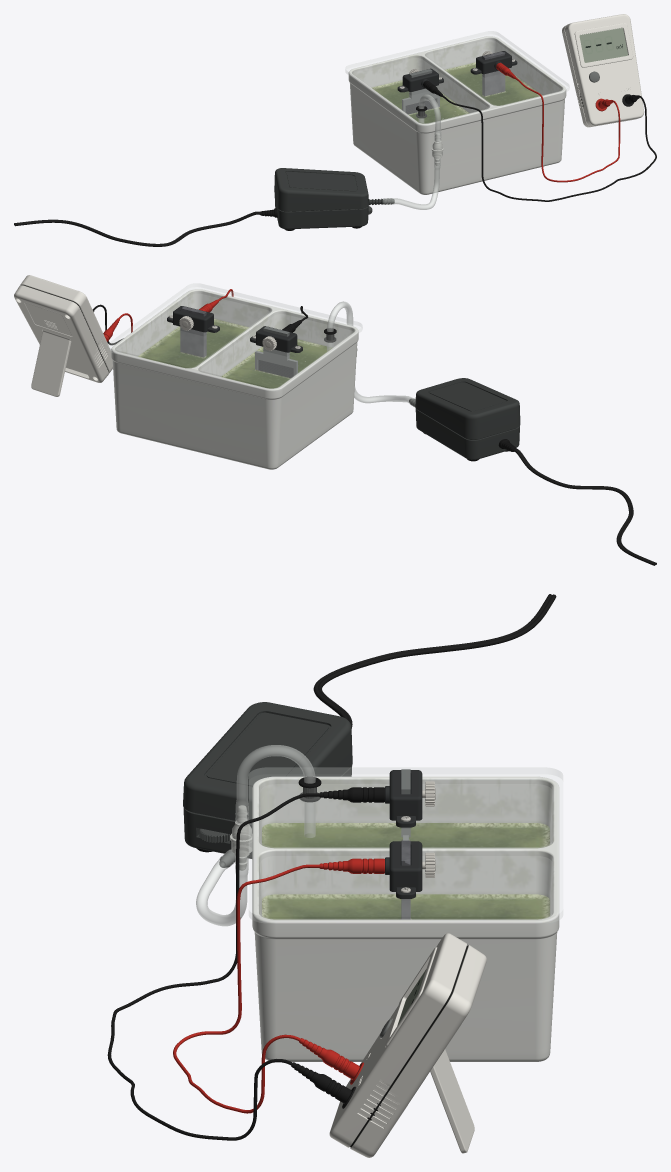
File: algae-energy-kit-v2.glb
3 views of the same model, one above another, from view 1: azimuth 30°, elevation 25°; view 2: azimuth 150°, elevation 25°; view 3: azimuth 270°, elevation 25° (orthographic). The views are drawn at different scales.
Parts seen in each view (by area): view 1: Chamber, Lid, Meter_Front, Pump_Top, Culture, Pump_Body, Meter_LCD, Lead_Black, Tube, Pump_Cord, Lead_Red, Electrode_Cathode (+4 smaller); view 2: Chamber, Lid, Pump_Top, Culture, Meter_Back, Pump_Body, Meter_Stand, Meter_Front, Pump_Cord, Tube, Electrode_Cathode, Electrode_Anode (+3 smaller); view 3: Chamber, Lid, Culture, Pump_Top, Meter_Front, Meter_Back, Lead_Black, Tube, Lead_Red, Pump_Cord, Meter_Stand, Clamp_Anode (+3 smaller).
Boxes of the visible parts, x1,y1,x2,y2 form: Chamber: (348, 36, 566, 194); Lid: (345, 31, 569, 125); Meter_Front: (565, 14, 644, 126); Pump_Top: (274, 168, 368, 211); Culture: (372, 62, 542, 123); Pump_Body: (274, 194, 368, 229); Meter_LCD: (579, 28, 627, 62); Lead_Black: (423, 80, 656, 201); Tube: (383, 94, 441, 209); Pump_Cord: (14, 211, 260, 246); Lead_Red: (496, 62, 620, 182); Electrode_Cathode: (482, 51, 505, 96); Chamber: (111, 289, 358, 469); Lid: (107, 283, 362, 391); Pump_Top: (415, 378, 520, 439); Culture: (138, 319, 332, 388); Meter_Back: (14, 285, 108, 382); Pump_Body: (415, 408, 519, 459); Meter_Stand: (31, 330, 71, 396); Meter_Front: (20, 275, 112, 373); Pump_Cord: (512, 448, 656, 565); Tube: (327, 301, 415, 407); Electrode_Cathode: (180, 306, 206, 357); Electrode_Anode: (255, 326, 297, 375); Chamber: (252, 776, 559, 1061); Lid: (249, 767, 562, 922); Culture: (262, 823, 549, 919); Pump_Top: (183, 702, 352, 823); Meter_Front: (329, 933, 467, 1147); Meter_Back: (350, 945, 486, 1157); Lead_Black: (107, 787, 384, 1140); Tube: (196, 745, 315, 926); Lead_Red: (173, 858, 384, 1113); Pump_Cord: (313, 594, 556, 728); Meter_Stand: (430, 1049, 474, 1153); Clamp_Anode: (385, 770, 422, 827).
Size of the model in its own units: 0.7061 by 0.1099 by 0.2375.
28 materials, 5 textured.
